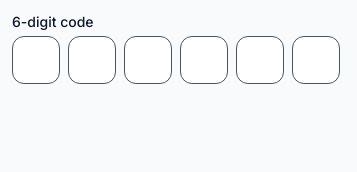
Test: OtpInput › advances focus after each digit
Type "4" into the field named "Digit 1 of 6" at x=36, y=60, box [12,36,60,84]
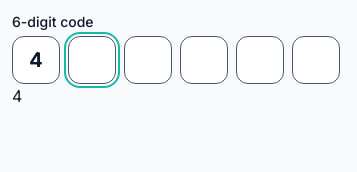
Type "2" into the field named "Digit 2 of 6" at x=92, y=60, box [68,36,116,84]
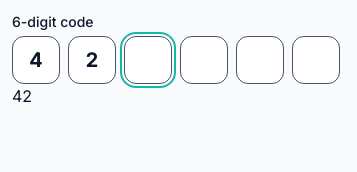
Now the text with test id "value" reads "42", box [12,86,32,106]
